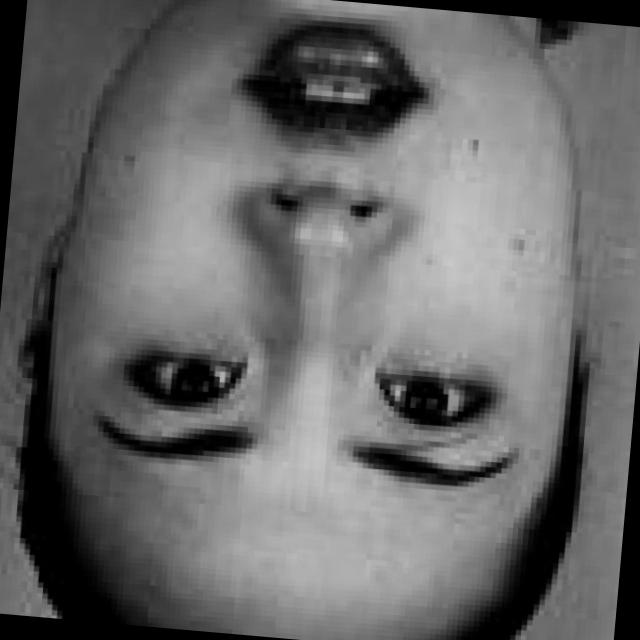fear: (58, 0, 589, 613)
